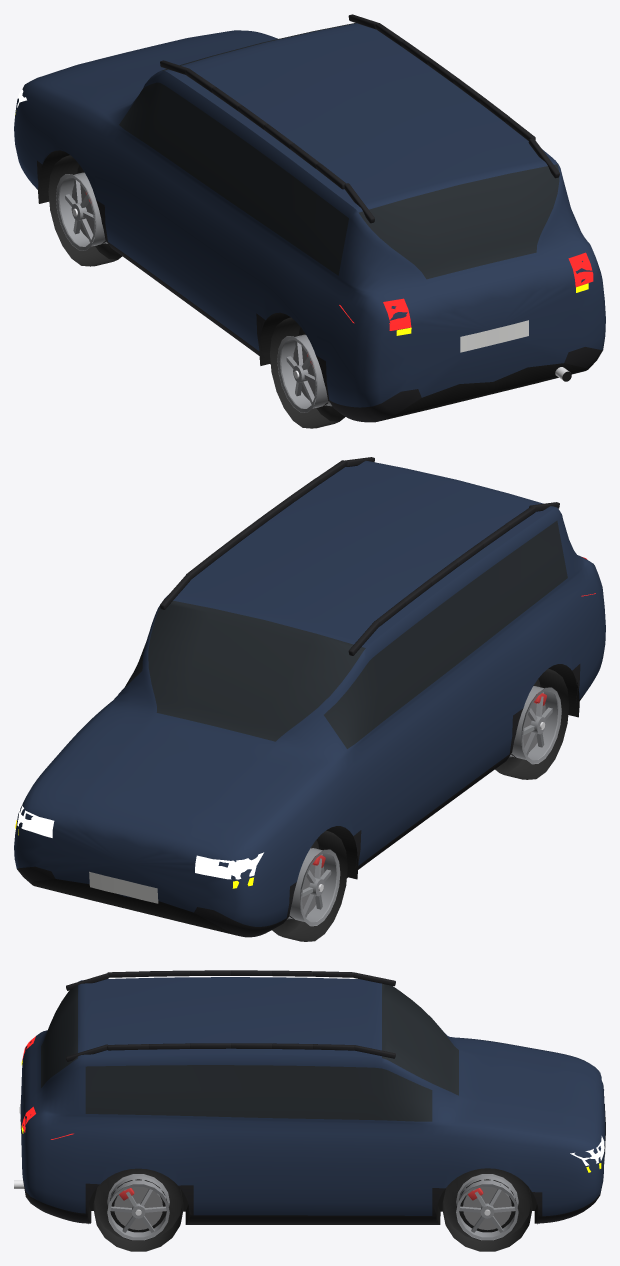
The model's file is t_suv.glb.
3 views of the same model, one above another, from view 1: azimuth 30°, elevation 25°; view 2: azimuth 150°, elevation 25°; view 3: azimuth 270°, elevation 25° (orthographic). The views are drawn at different scales.
Visible parts, largest first — view 1: Body, Wheel_RL, Wheel_FL; view 2: Body, Wheel_FL, Wheel_RL; view 3: Body, Wheel_FR, Wheel_RR.
Part boxes in pixels (<box>): Body: <box>14,14,605,422</box>; Wheel_RL: <box>270,317,345,428</box>; Wheel_FL: <box>48,155,122,266</box>; Body: <box>14,457,605,937</box>; Wheel_FL: <box>272,830,347,941</box>; Wheel_RL: <box>495,668,569,779</box>; Body: <box>14,970,605,1224</box>; Wheel_FR: <box>442,1168,532,1251</box>; Wheel_RR: <box>93,1168,183,1251</box>.
Bounding box in the file's own units: 1.88 × 1.75 × 4.75.
